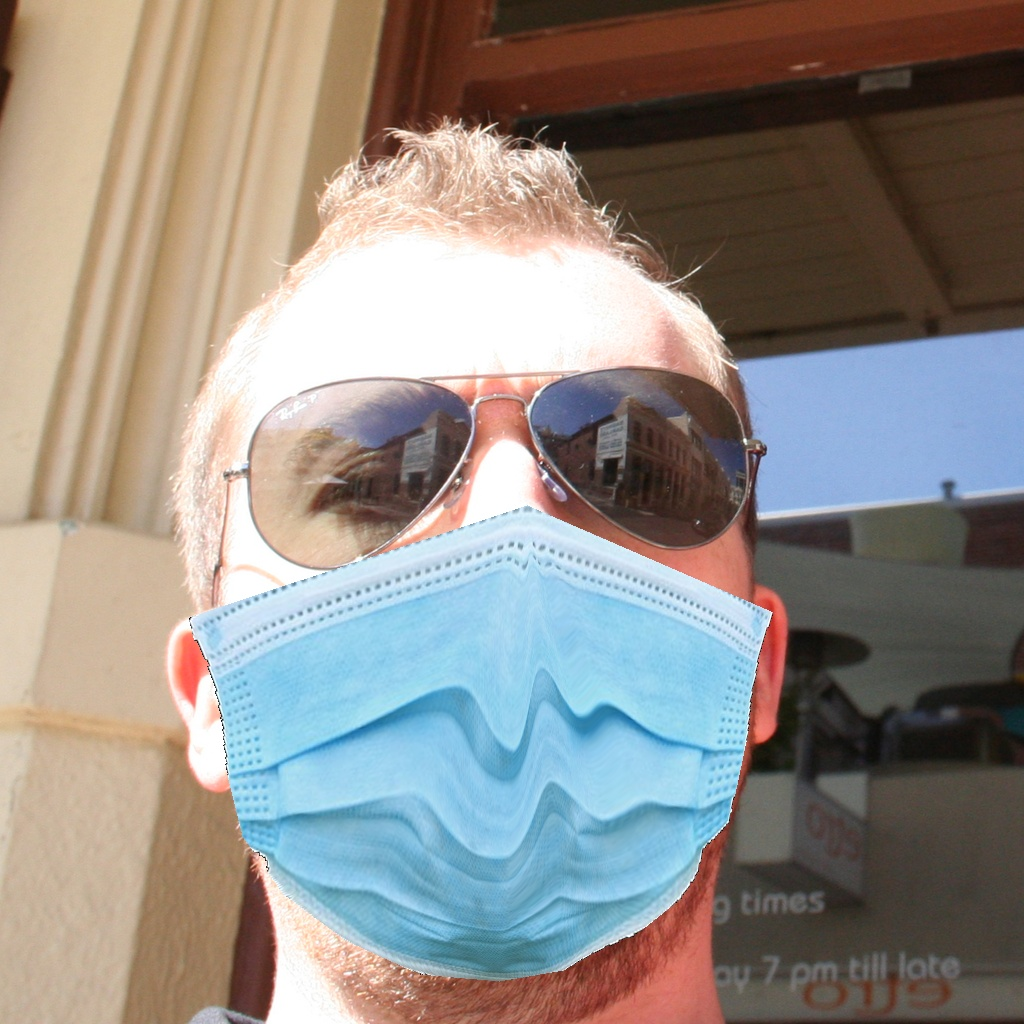Mask: (181, 353, 773, 992)
